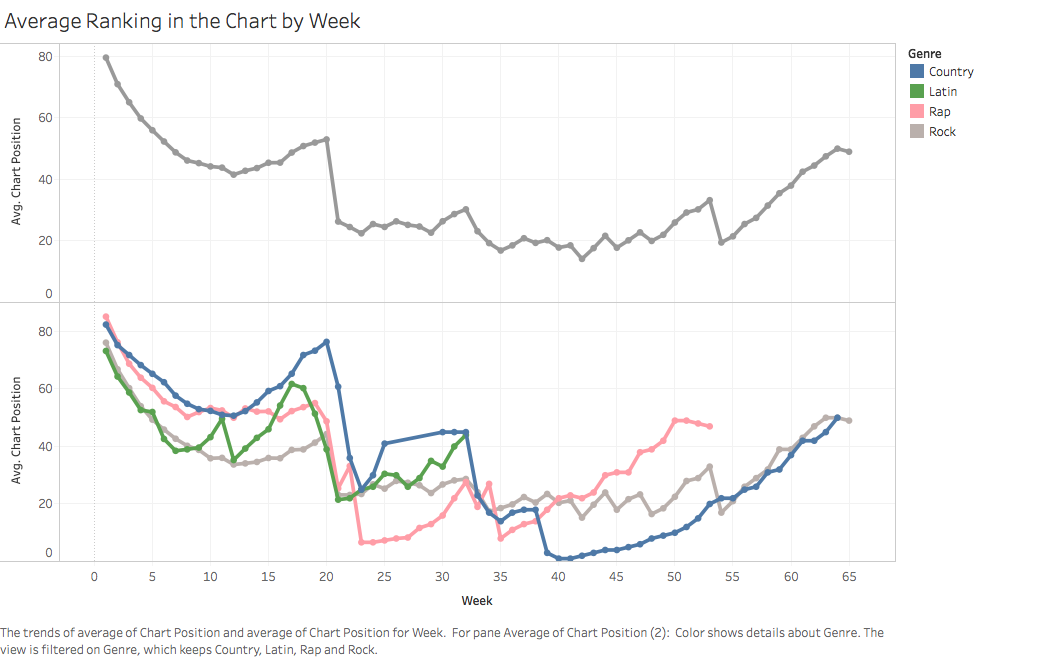

The dashboard page shown, as its layout file describes it:
{"tool":"tableau","page":{"name":"Dashboard 1","canvas":[1000,800],"ordinal":0},"visuals":[{"type":"worksheet","title":"Sheet 1","mark":"Line","rows":["Chart_Position","Chart_Position"],"cols":["Week"],"box":[0,0,840,800]},{"type":"legend","title":"Sheet 1","param":"[federated.1hfqz190v1ulhe1fspjip0sqy58q].[none:genre:nk]","box":[840,0,160,130]}]}

Visuals, with their boxes on the page's 1000x800 design canvas (x1, y1, x2, y2). These are canvas units, not pixel positions in the 1047x659 screenshot, which may show the page scaled, cropped or inside an application window:
"Sheet 1" worksheet (Line marks): box(0, 0, 840, 800)
"Sheet 1" legend: box(840, 0, 1000, 130)
